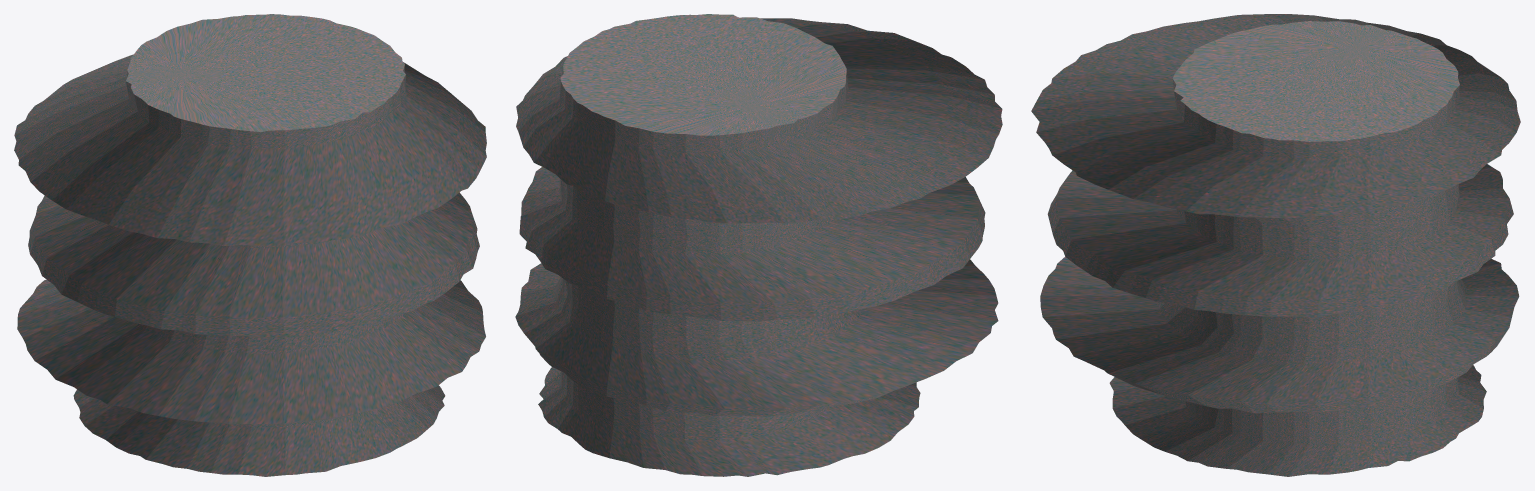
The model's file is barrel_1.dae.
3 views of the same model, side by side, from view 1: azimuth 30°, elevation 25°; view 2: azimuth 150°, elevation 25°; view 3: azimuth 270°, elevation 25° (orthographic). The views are drawn at different scales.
Parts seen in each view (by area): view 1: Cylinder; view 2: Cylinder; view 3: Cylinder.
Boxes of the visible parts, x1,y1,x2,y2 form: Cylinder: (14,14,486,476); Cylinder: (515,14,1002,476); Cylinder: (1031,14,1520,476).
Size of the model in its own units: 1.36 by 1.38 by 1.
1 material, 1 textured.
